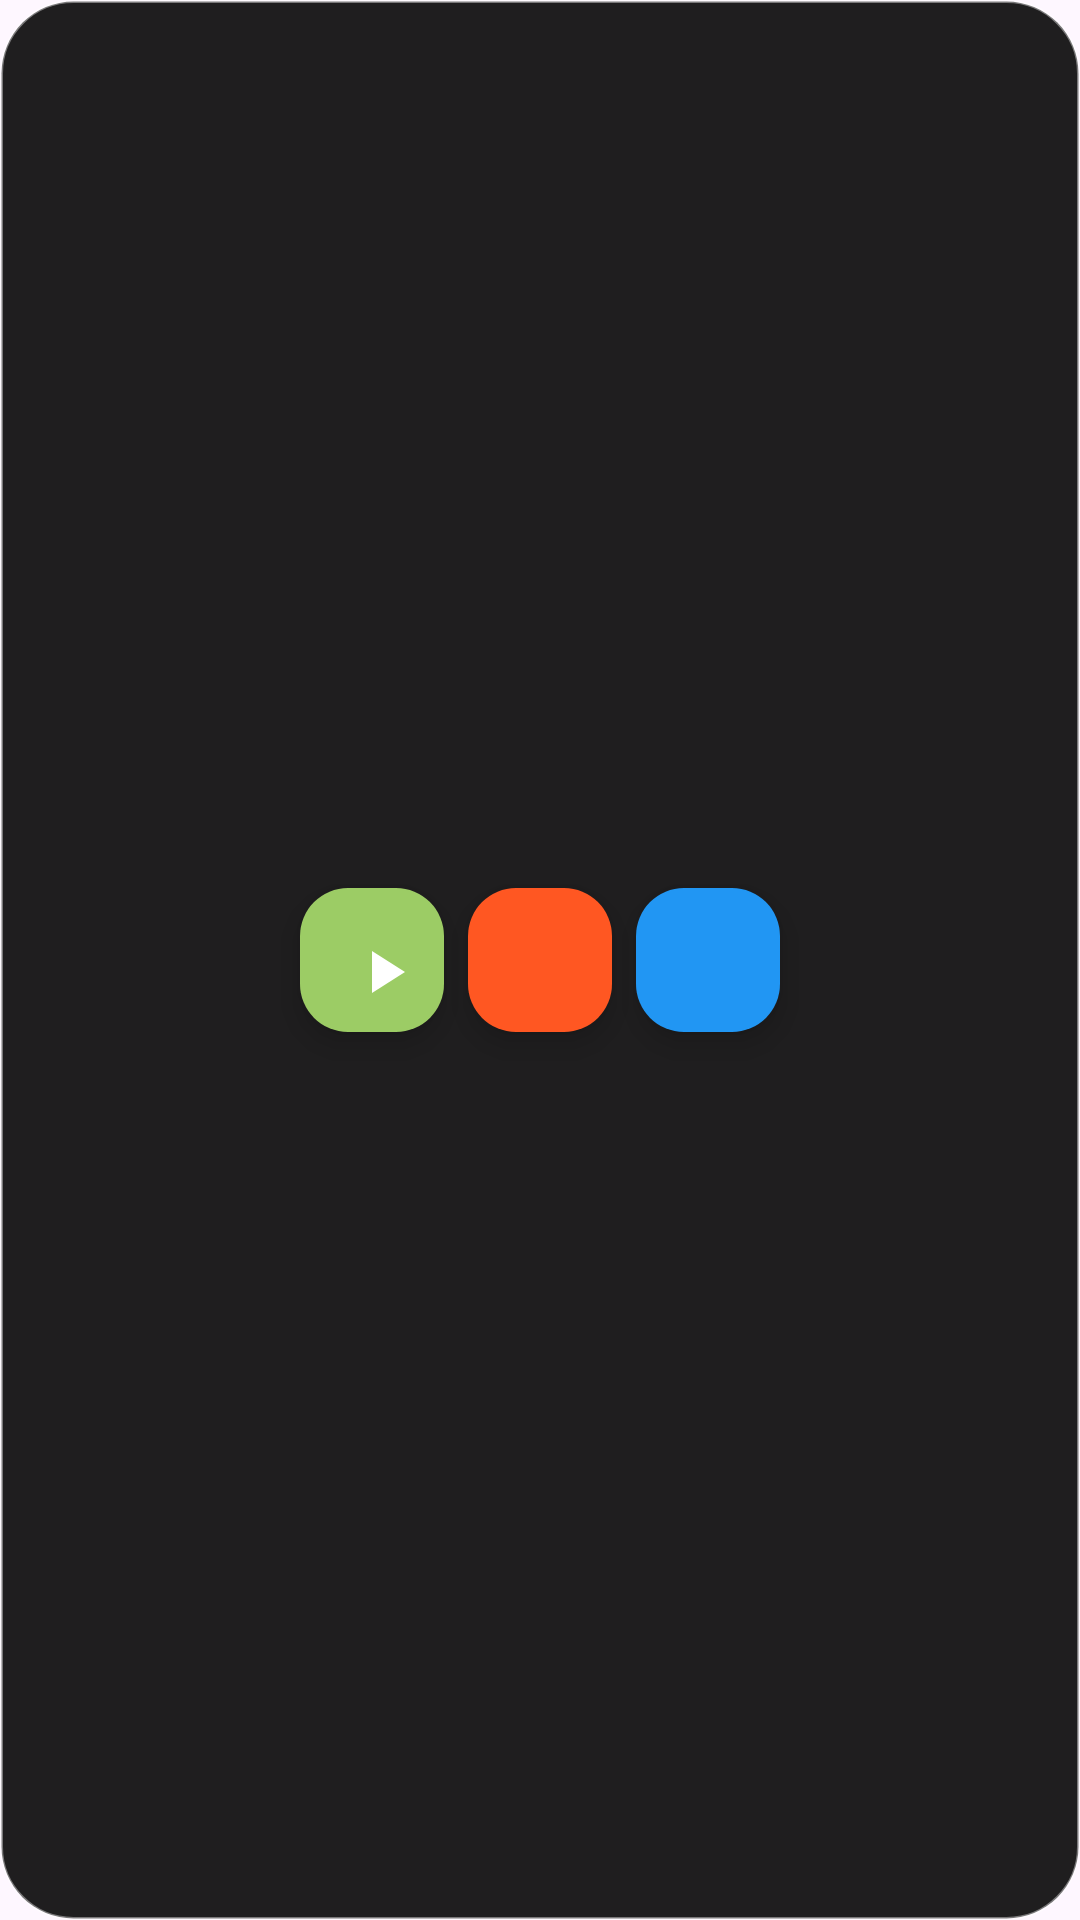

Icon click points for this 1080px×1920px phone screenshot, format (x,y):
play: (372,960)
